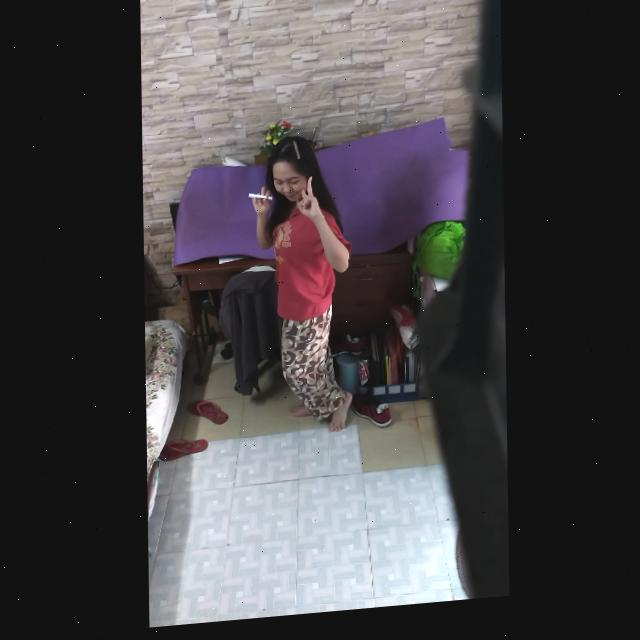cigarette: (249, 197, 273, 207)
